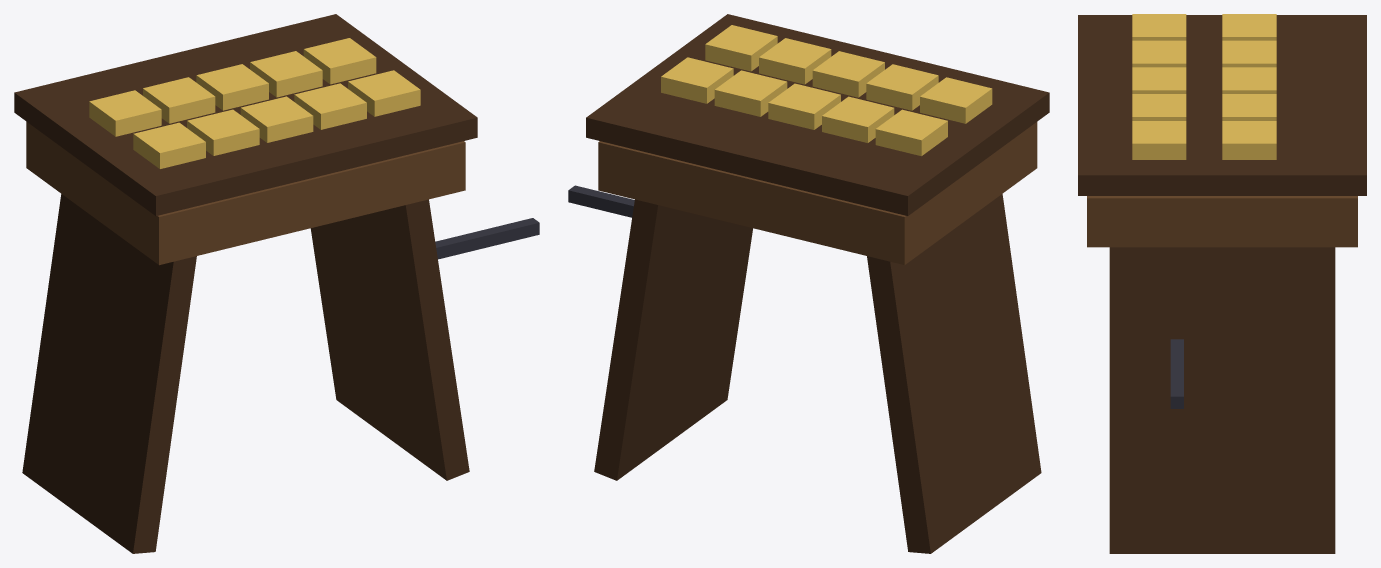
File: prop_candy_stand.glb
3 renders of one model, left to right at view 1: azimuth 30°, elevation 25°; view 2: azimuth 150°, elevation 25°; view 3: azimuth 270°, elevation 25°, orthographic. The views are drawn at different scales.
Parts seen in each view (by area): view 1: prop_candy_stand; view 2: prop_candy_stand; view 3: prop_candy_stand.
Part boxes in pixels (box(x1,y1,x2,y2)): prop_candy_stand: box(14, 14, 539, 553); prop_candy_stand: box(568, 14, 1049, 553); prop_candy_stand: box(1078, 14, 1366, 553).
Bounding box in the file's own units: 1.14 × 0.965 × 0.64.
